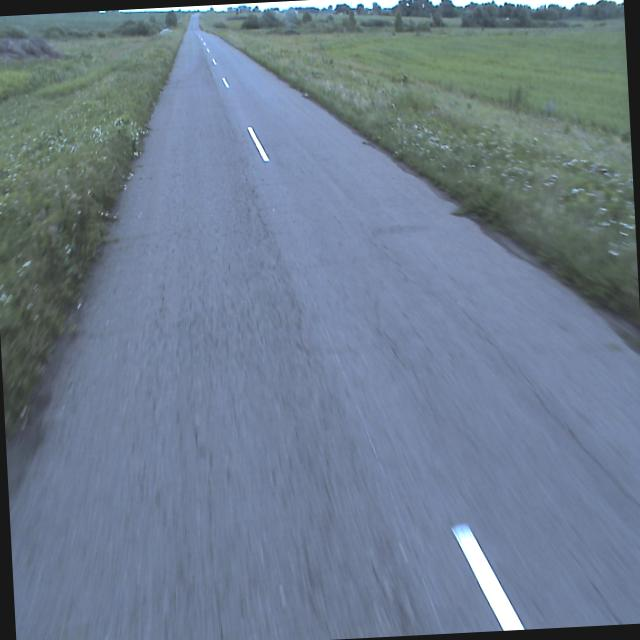road: (9, 14, 640, 640)
